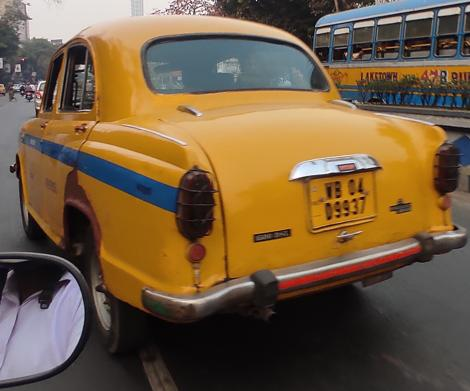Car: (6, 14, 470, 367)
